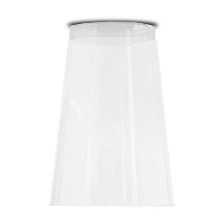glass: (43, 12, 185, 210)
